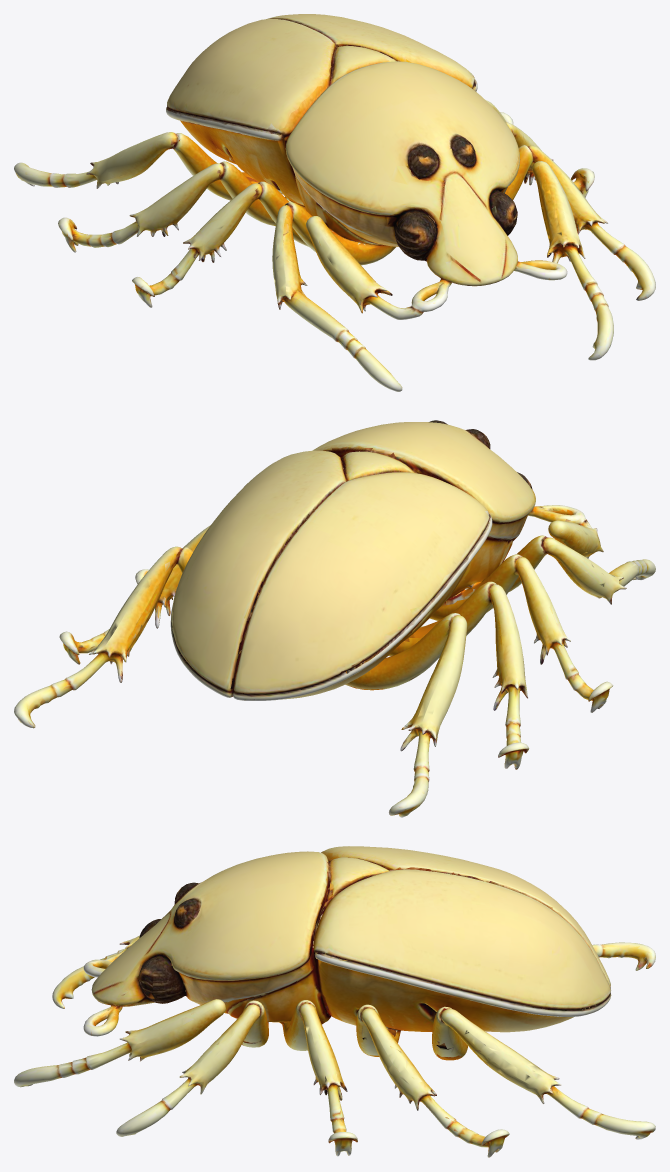
File: scarab.glb
3 renders of one model, top to bottom at view 1: azimuth 30°, elevation 25°; view 2: azimuth 150°, elevation 25°; view 3: azimuth 270°, elevation 25°, orthographic. The views are drawn at different scales.
Parts seen in each view (by area): view 1: scarab; view 2: scarab; view 3: scarab.
Part boxes in pixels (x1,y1,x2,y2): scarab: [14, 14, 655, 391]; scarab: [14, 420, 655, 817]; scarab: [14, 846, 655, 1157].
Size of the model in its own units: 0.799 by 0.3368 by 1.
Materials: 1 (1 with a texture image).
